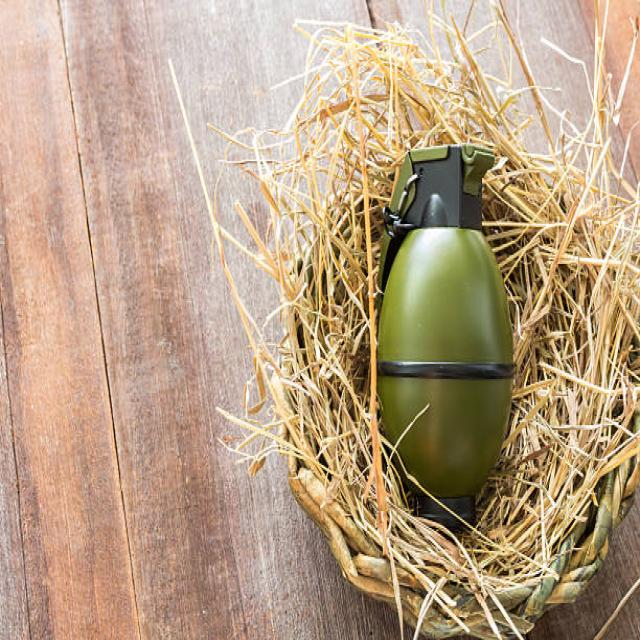grenade: (365, 137, 520, 531)
